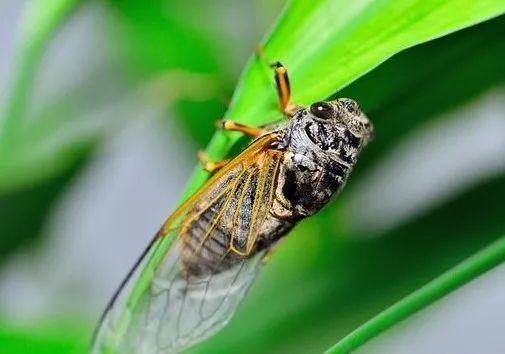chan: (130, 84, 377, 331)
